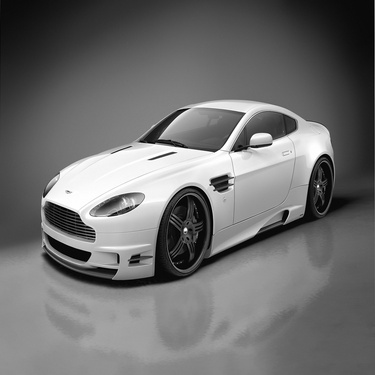car: (32, 86, 340, 297)
